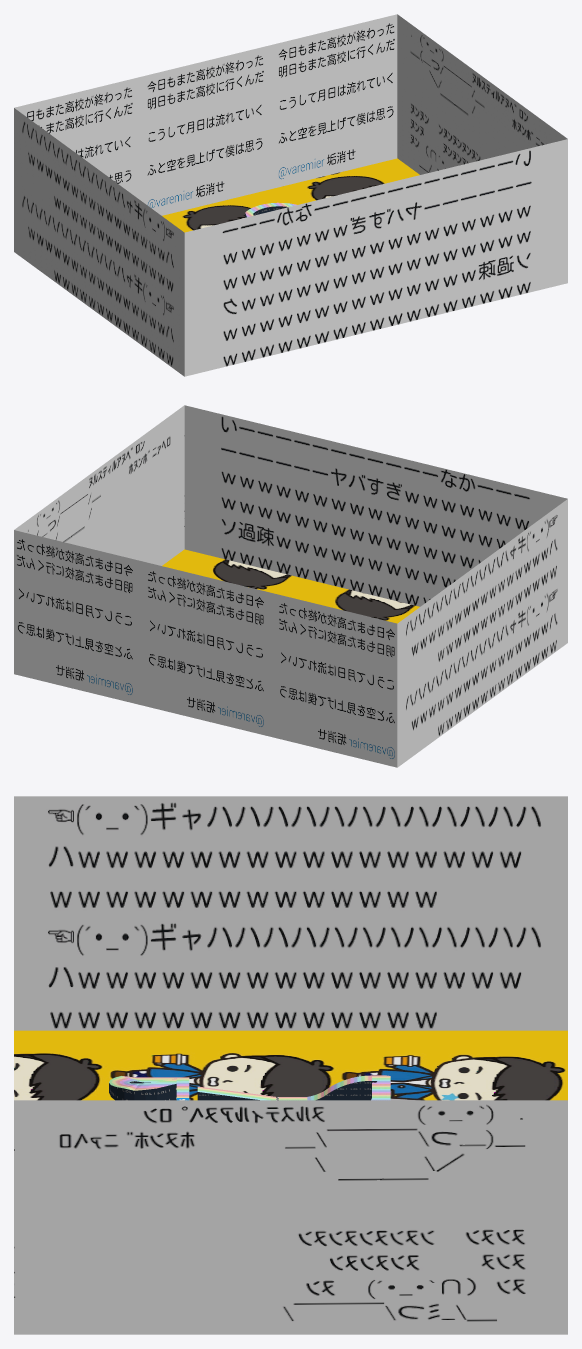
3 renders of one model, top to bottom at view 1: azimuth 30°, elevation 25°; view 2: azimuth 150°, elevation 25°; view 3: azimuth 270°, elevation 25°, orthographic. The views are drawn at different scales.
Parts seen in each view (by area): view 1: kichicourse-SKP--inakakusokaso, kichicourse-SKP--akakese, kichicourse-SKP--enari, kichicourse-SKP--nunnun, kichicourse-SKP--varemi; view 2: kichicourse-SKP--akakese, kichicourse-SKP--inakakusokaso, kichicourse-SKP--enari, kichicourse-SKP--nunnun, kichicourse-SKP--varemi; view 3: kichicourse-SKP--enari, kichicourse-SKP--nunnun, kichicourse-SKP--varemi, kichicourse-SKP--road, kichicourse-SKP--LOL.
Boxes of the visible parts, x1,y1,x2,y2 form: kichicourse-SKP--inakakusokaso: (184,139,567,376); kichicourse-SKP--akakese: (14,14,397,215); kichicourse-SKP--enari: (14,108,184,376); kichicourse-SKP--nunnun: (397,14,567,174); kichicourse-SKP--varemi: (162,158,419,232); kichicourse-SKP--akakese: (14,530,397,767); kichicourse-SKP--inakakusokaso: (184,405,567,606); kichicourse-SKP--enari: (397,499,567,767); kichicourse-SKP--nunnun: (14,405,184,565); kichicourse-SKP--varemi: (162,549,419,623); kichicourse-SKP--enari: (14,796,567,1030); kichicourse-SKP--nunnun: (14,1100,567,1334); kichicourse-SKP--varemi: (14,1030,567,1100); kichicourse-SKP--road: (109,1075,390,1100); kichicourse-SKP--LOL: (109,1081,376,1100).
Bounding box in the file's own units: 155039 × 55707 × 119419.
Materials: 14 (14 with a texture image).
